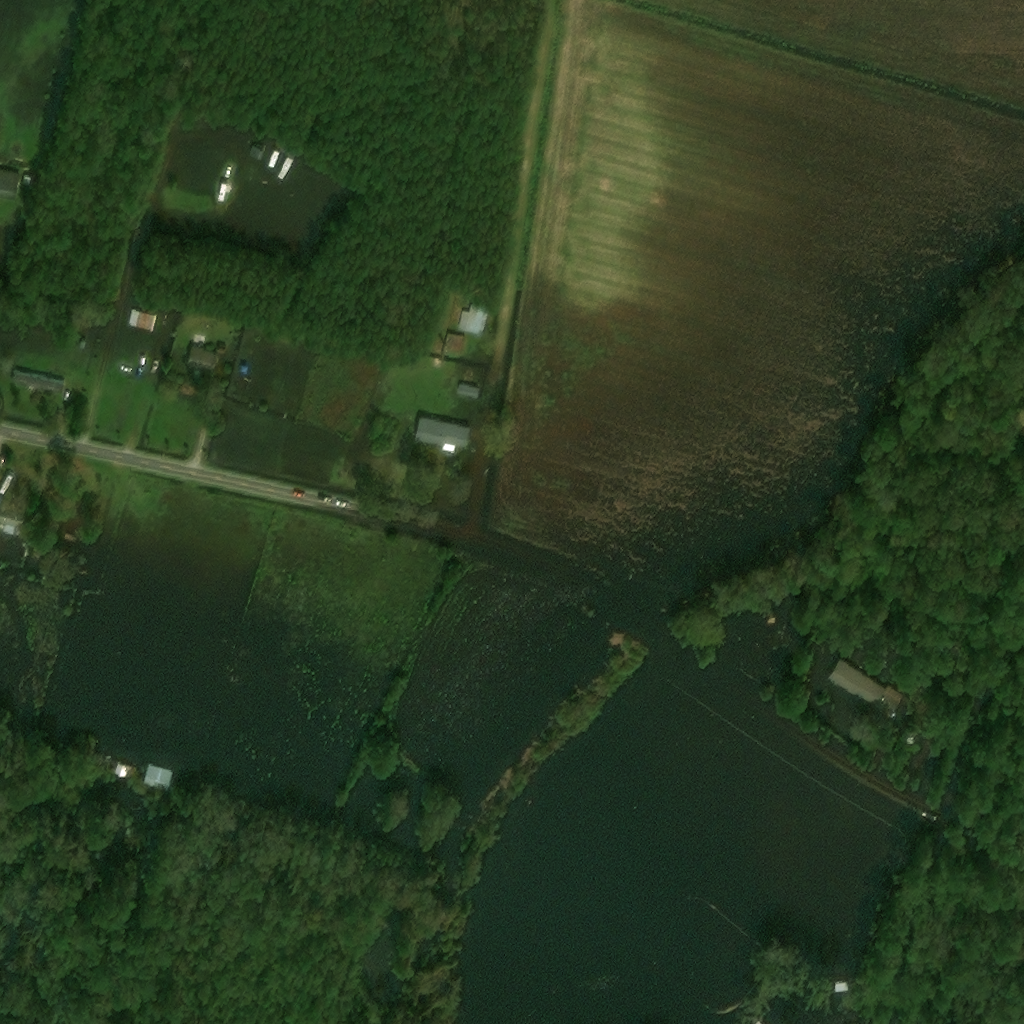destroyed: (53, 519, 76, 535), (433, 363, 444, 373)
major_damage: (827, 657, 902, 721), (144, 763, 179, 792), (112, 761, 132, 778), (835, 983, 857, 994), (249, 147, 265, 162)
minor_damage: (413, 416, 472, 456), (457, 304, 489, 338), (0, 500, 29, 536), (186, 347, 220, 374), (0, 171, 21, 202), (212, 182, 233, 213), (129, 312, 156, 333), (455, 384, 483, 403), (120, 311, 132, 329), (82, 343, 88, 352)
no_damage: (10, 371, 67, 396), (442, 334, 467, 357), (216, 346, 229, 357)
